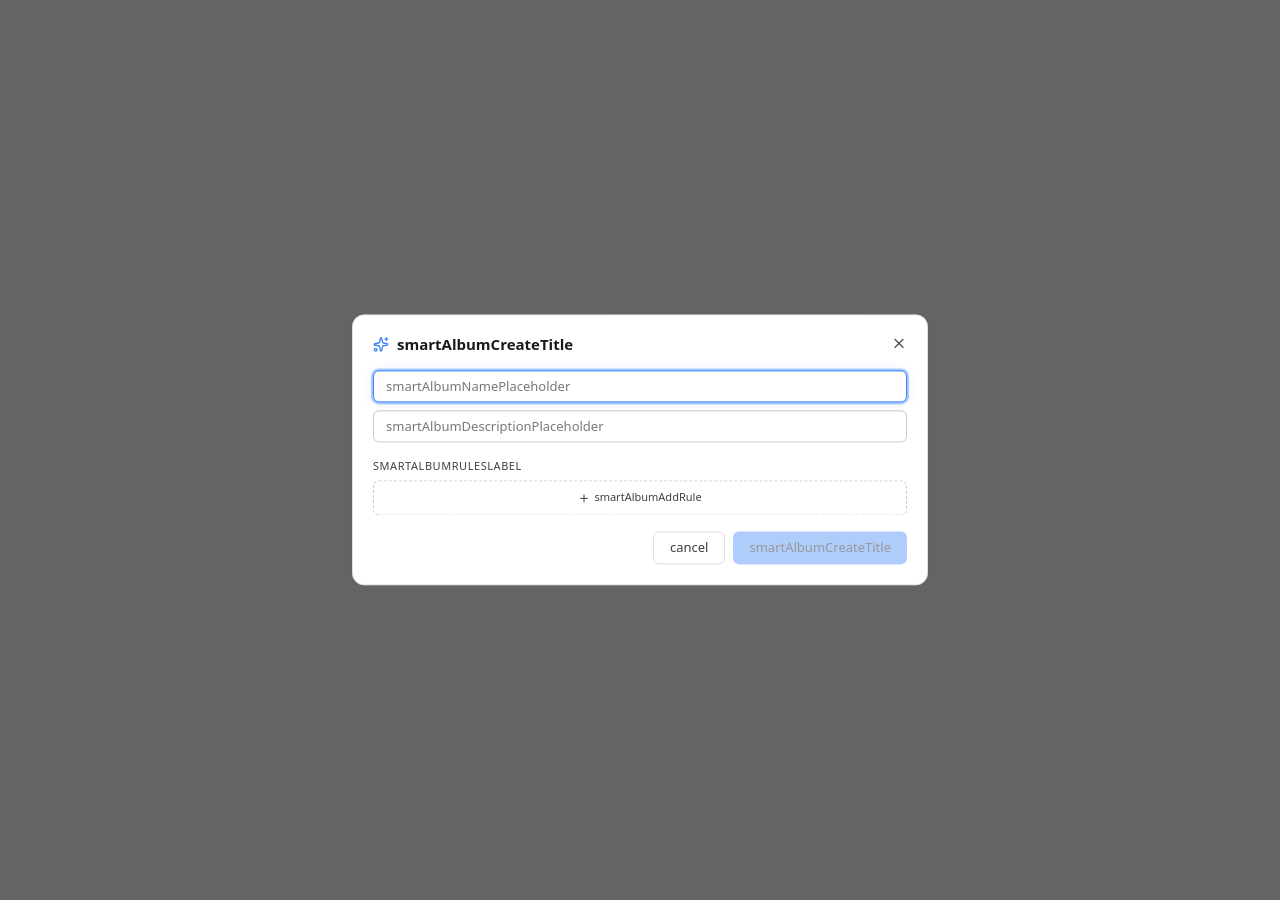
Scenario: SmartAlbumDialog › does not enter an update loop after adding a rule
Click the button "smartAlbumAddRule": x=640, y=498 [373,481,907,515]
Wait 400 ms
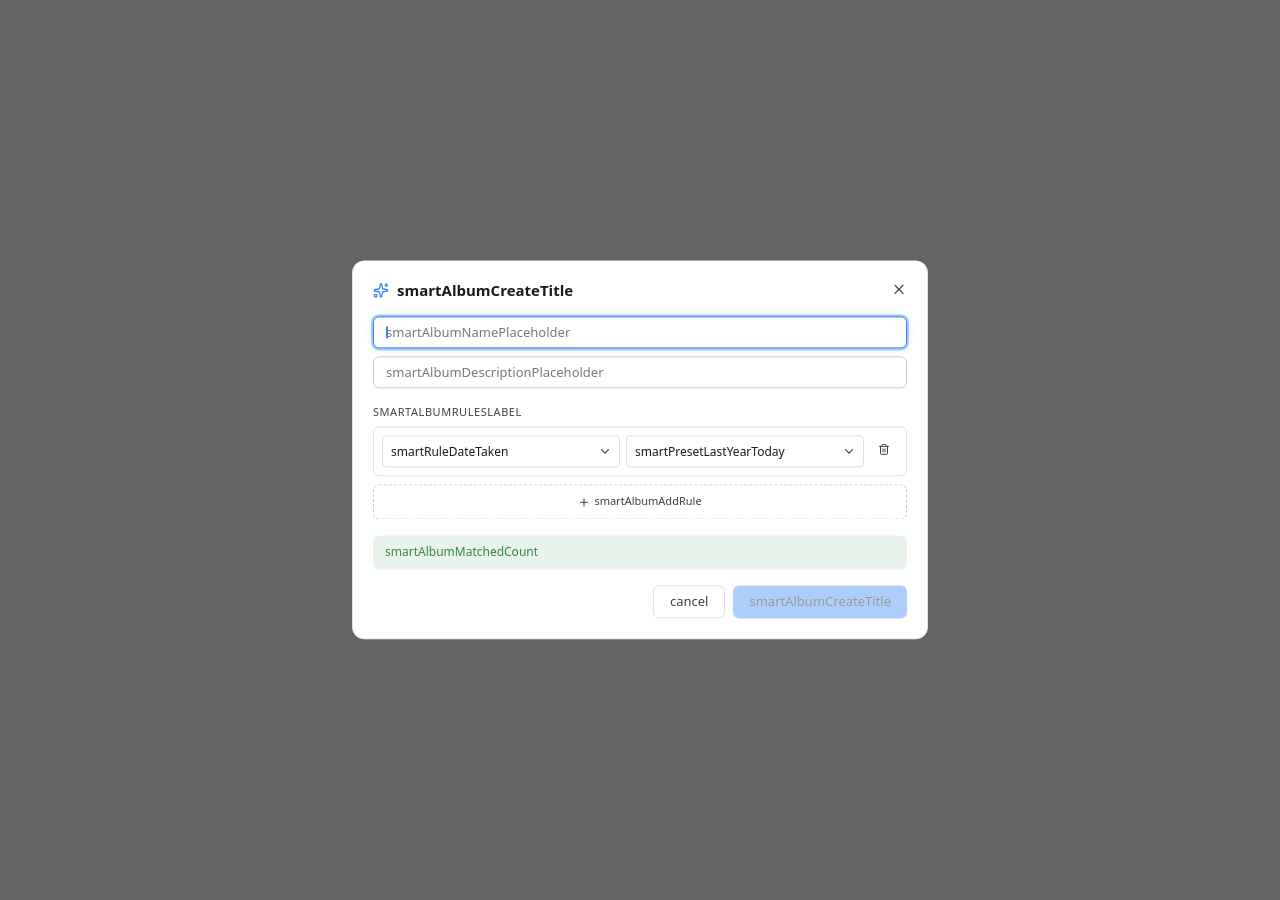
Now the number of dropdowns is 2, box [382,436,620,468]; [626,436,864,468]
